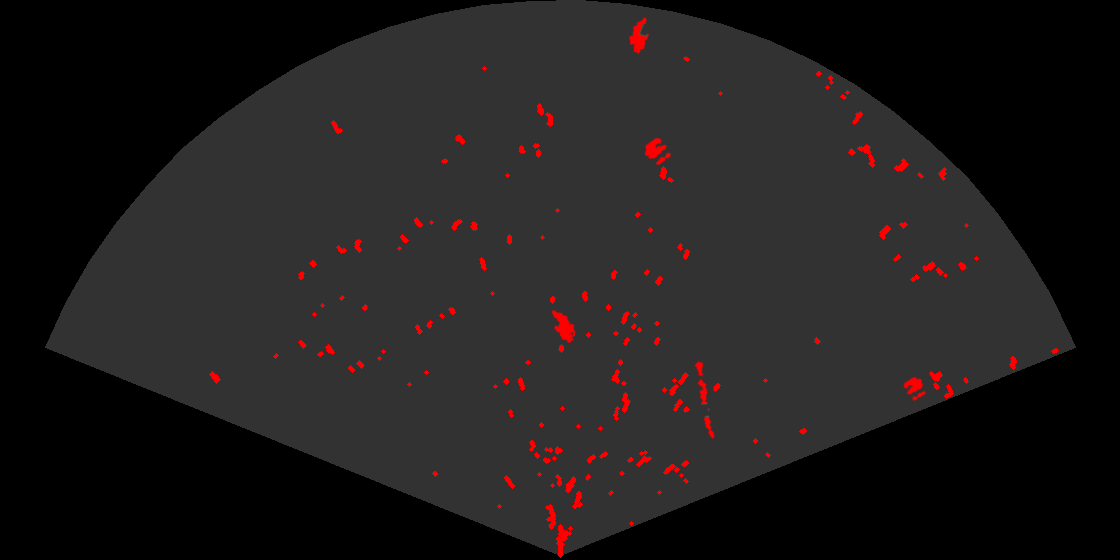AUV: (550, 308, 576, 345), (627, 16, 651, 56)
ball: (643, 136, 672, 167), (902, 375, 928, 403)
chain: (693, 360, 716, 441)
